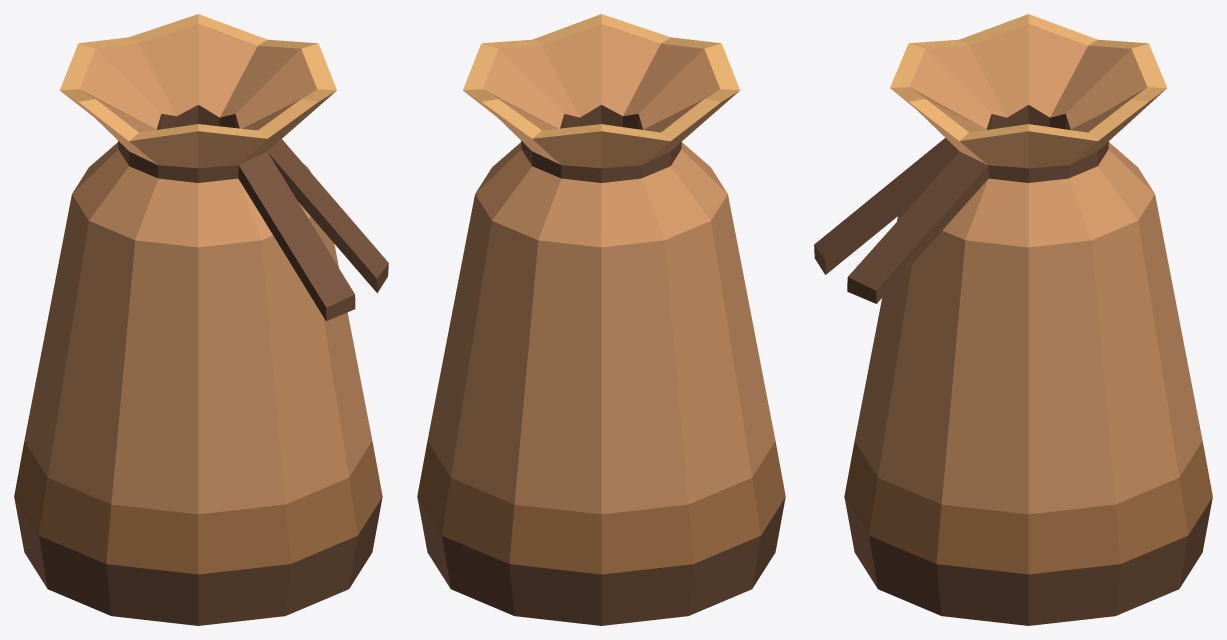
Rendered from ALMOCO.fbx.
3 renders of one model, left to right at view 1: azimuth 30°, elevation 25°; view 2: azimuth 150°, elevation 25°; view 3: azimuth 270°, elevation 25°, orthographic.
Parts seen in each view (by area): view 1: Almoço ARVID; view 2: Almoço ARVID; view 3: Almoço ARVID.
Part boxes in pixels (x1,y1,x2,y2): Almoço ARVID: [14, 14, 388, 625]; Almoço ARVID: [417, 14, 785, 625]; Almoço ARVID: [814, 14, 1212, 625].
Size of the model in its own units: 54.49 by 83.73 by 58.97.
Materials: 1 (1 with a texture image).
